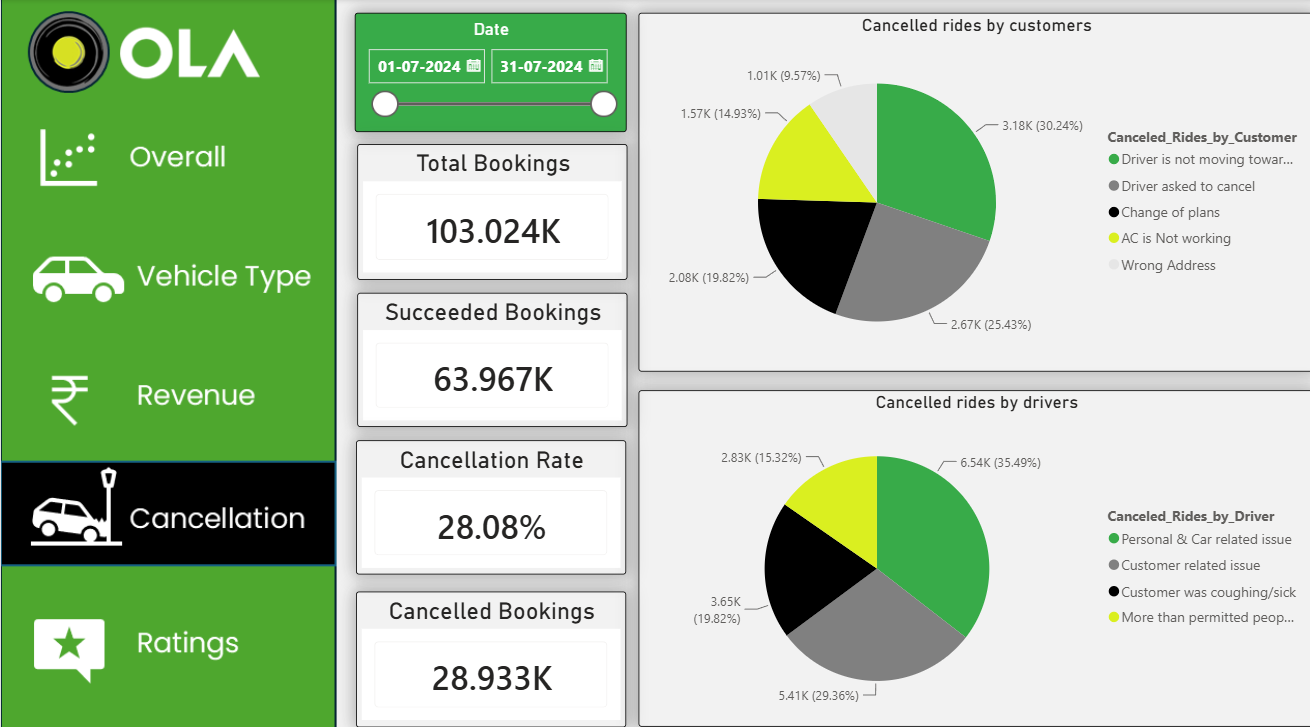

Layout of this report page (visuals, bound fields, positions):
{"tool":"powerbi","page":{"name":"Cancellation","canvas":[1280,720],"ordinal":3},"visuals":[{"type":"actionButton","box":[0,225.6,322.1,90.5],"z":0},{"type":"actionButton","box":[0,339,322.1,90.5],"z":1000},{"type":"actionButton","box":[0,222,323.3,90.5],"z":2000},{"type":"actionButton","box":[0,335.4,323.3,90.5],"z":3000},{"type":"actionButton","box":[0,581.5,323.3,90.5],"z":4000},{"type":"actionButton","box":[0,102.5,323.3,90.5],"z":5000},{"type":"pieChart","title":"Cancelled rides by customers","fields":{"Category":["Bookings.Canceled_Rides_by_Customer"],"Y":["CountNonNull(Bookings.Canceled_Rides_by_Customer)"]},"box":[615.6,13,651.9,346.8],"z":6000},{"type":"pieChart","title":"Cancelled rides by drivers","fields":{"Category":["Bookings.Canceled_Rides_by_Driver"],"Y":["CountNonNull(Bookings.Canceled_Rides_by_Driver)"]},"box":[615.6,377.9,651.9,324.7],"z":7000},{"type":"slicer","title":"Date","fields":{"Values":["Bookings.Date.1"]},"box":[341.6,13,262.3,115.6],"z":8000},{"type":"cardVisual","title":"Total Bookings","fields":{"Data":["CountNonNull(Bookings.Booking_ID)"]},"box":[344.2,140.3,261,131.2],"z":9000},{"type":"cardVisual","title":"Succeeded Bookings","fields":{"Data":["CountNonNull(Bookings.Booking_ID)"]},"box":[344.2,283.1,261,129.9],"z":10000},{"type":"cardVisual","title":"Cancelled Bookings","fields":{"Data":["CountNonNull(Bookings.Booking_ID)"]},"box":[342.9,571.4,261,131.2],"z":11000},{"type":"cardVisual","title":"Cancellation Rate","fields":{"Data":["Bookings.Cancellation Rate"]},"box":[342.9,426,261,129.9],"z":12000}]}

Visuals, with their boxes in screenshot pixels (x1, y1, x2, y2), scaled from the page's 1280x720 canvas onto the 1310x727 screenshot:
actionButton: {"x1": 0, "y1": 228, "x2": 330, "y2": 319}
actionButton: {"x1": 0, "y1": 342, "x2": 330, "y2": 434}
actionButton: {"x1": 0, "y1": 224, "x2": 331, "y2": 316}
actionButton: {"x1": 0, "y1": 339, "x2": 331, "y2": 430}
actionButton: {"x1": 0, "y1": 587, "x2": 331, "y2": 679}
actionButton: {"x1": 0, "y1": 103, "x2": 331, "y2": 195}
"Cancelled rides by customers" pieChart: {"x1": 630, "y1": 13, "x2": 1297, "y2": 363}
"Cancelled rides by drivers" pieChart: {"x1": 630, "y1": 382, "x2": 1297, "y2": 709}
"Date" slicer: {"x1": 350, "y1": 13, "x2": 618, "y2": 130}
"Total Bookings" cardVisual: {"x1": 352, "y1": 142, "x2": 619, "y2": 274}
"Succeeded Bookings" cardVisual: {"x1": 352, "y1": 286, "x2": 619, "y2": 417}
"Cancelled Bookings" cardVisual: {"x1": 351, "y1": 577, "x2": 618, "y2": 709}
"Cancellation Rate" cardVisual: {"x1": 351, "y1": 430, "x2": 618, "y2": 561}
